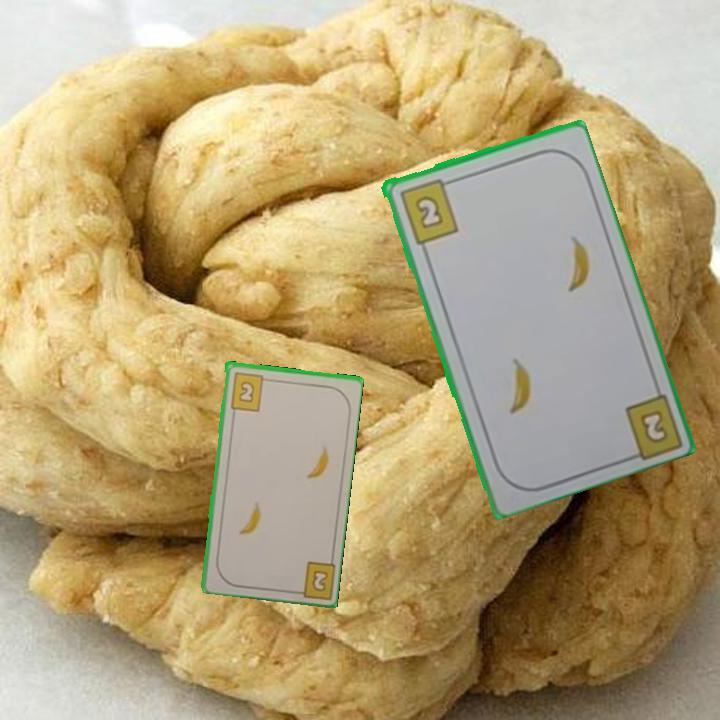2b: (395, 174, 461, 247), (288, 557, 337, 600), (226, 369, 272, 413), (636, 405, 671, 446)
